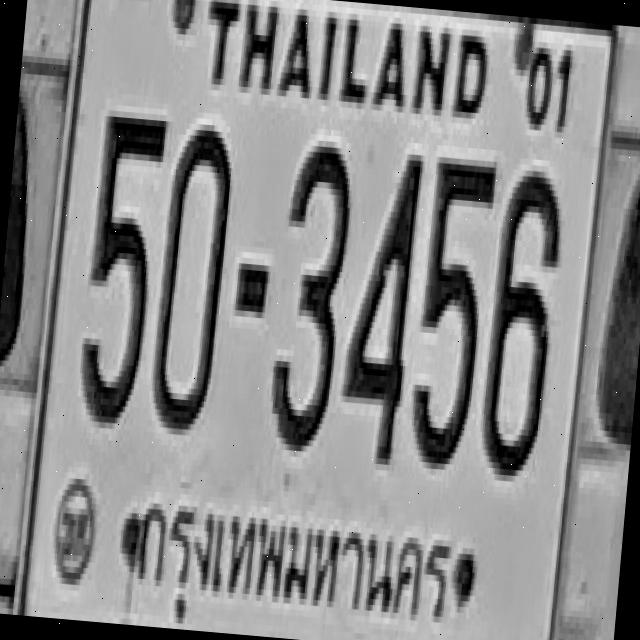0: (148, 119, 234, 434)
3: (266, 138, 355, 453)
4: (338, 144, 424, 466)
5: (76, 110, 168, 425), (408, 154, 497, 468)
6: (480, 165, 566, 480)
9: (0, 70, 41, 370)
Bangkok: (122, 482, 463, 637)
